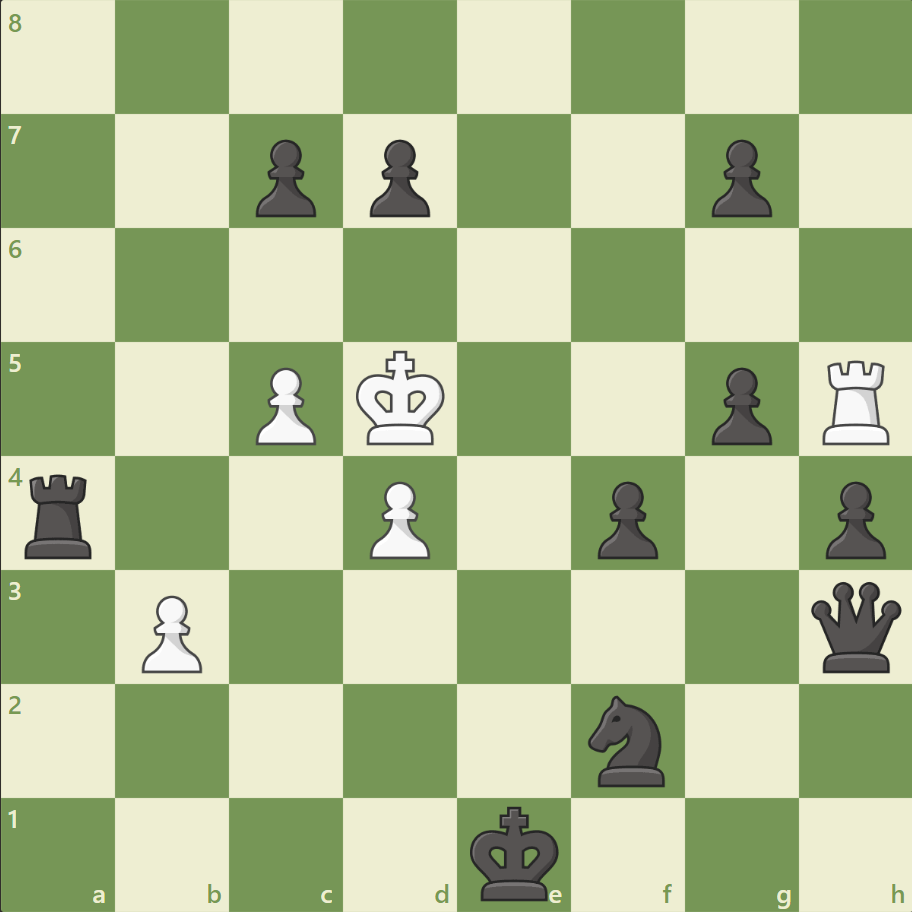K: (351, 344, 451, 452)
P: (247, 359, 322, 450), (133, 586, 208, 677), (361, 473, 435, 564)
R: (814, 352, 897, 449)
k: (465, 798, 565, 906)
n: (579, 688, 676, 791)
p: (247, 132, 322, 223), (701, 132, 776, 223), (701, 359, 776, 450), (361, 132, 435, 223), (588, 473, 662, 564), (815, 473, 889, 564)
q: (805, 576, 904, 676)
r: (19, 466, 102, 563)
